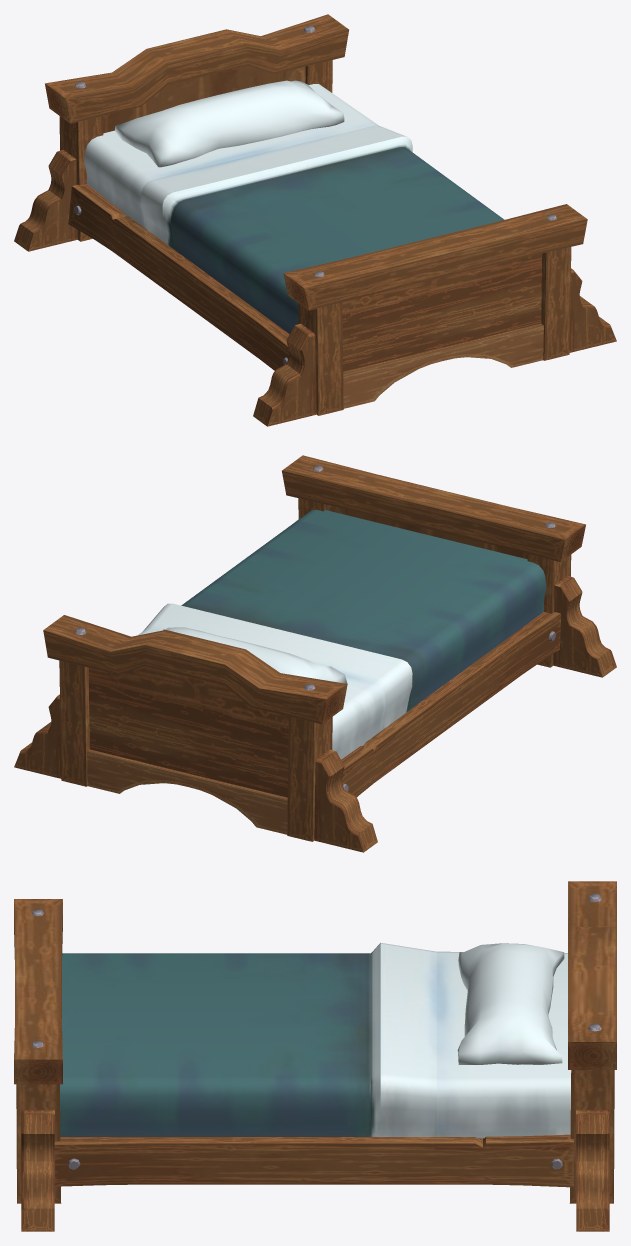
Rendered from Bed_Twin1.glb.
The picture shows the model from 3 angles, top to bottom: view 1: azimuth 30°, elevation 25°; view 2: azimuth 150°, elevation 25°; view 3: azimuth 270°, elevation 25°; orthographic projection. The views are drawn at different scales.
Parts seen in each view (by area): view 1: Bed_Twin1; view 2: Bed_Twin1; view 3: Bed_Twin1.
Part boxes in pixels (<box>): Bed_Twin1: <box>14,14,616,426</box>; Bed_Twin1: <box>14,455,616,852</box>; Bed_Twin1: <box>14,881,616,1231</box>.
Bounding box in the file's own units: 1.88 × 0.8051 × 2.41.
Materials: 3 (3 with a texture image).
